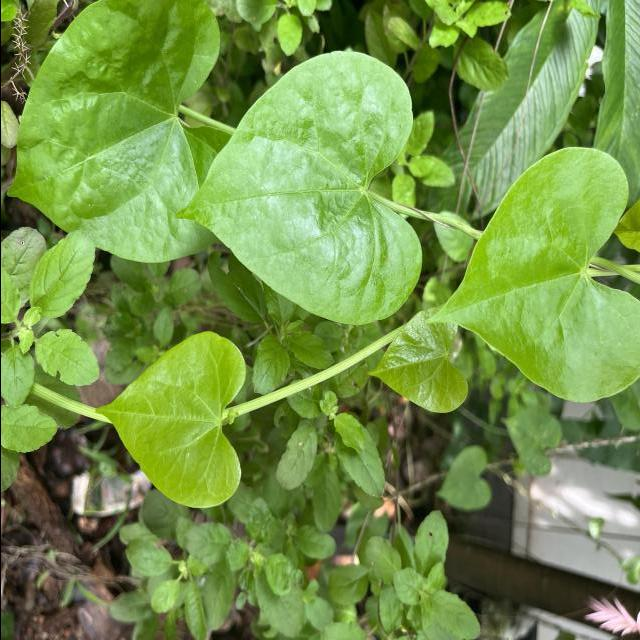Tinospora cordifolia: (170, 47, 426, 327), (5, 2, 236, 266), (421, 144, 640, 404), (92, 329, 248, 512)
